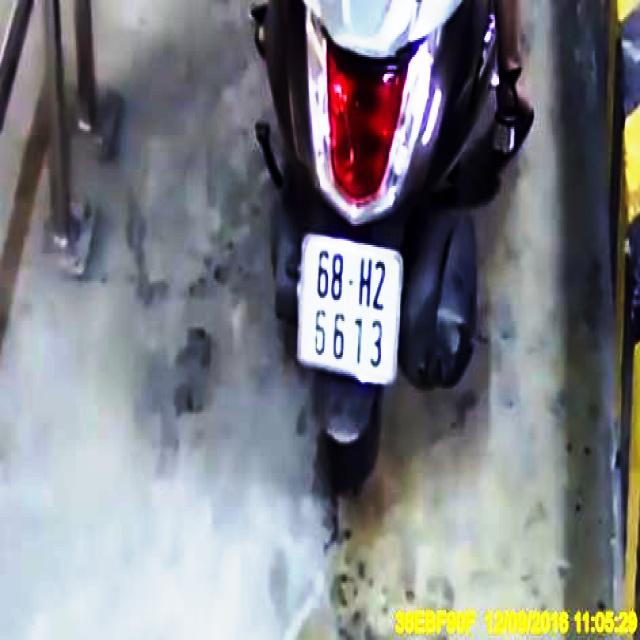license_plate: (297, 236, 403, 382)
